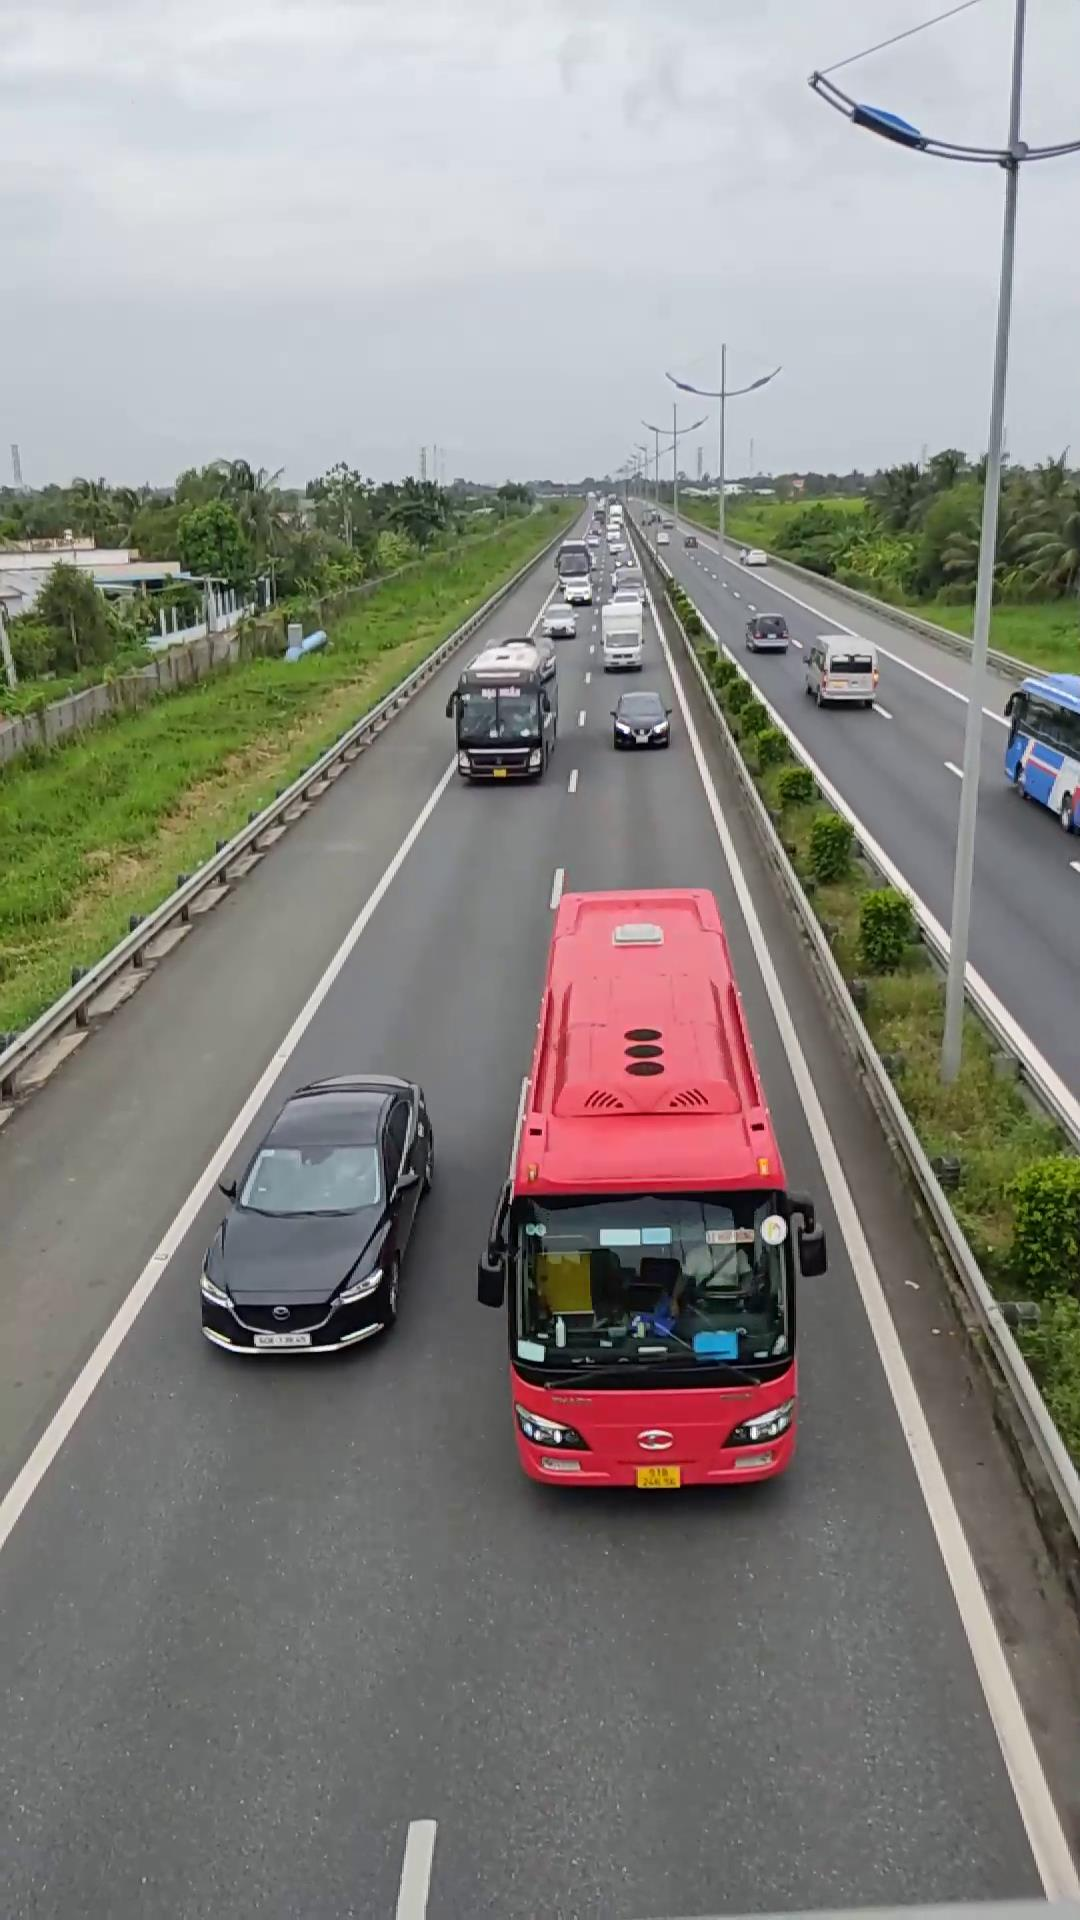bus: (480, 878, 816, 1489), (450, 638, 556, 782)
car: (196, 1073, 436, 1355), (800, 631, 879, 706)
truck: (1002, 669, 1079, 837)
